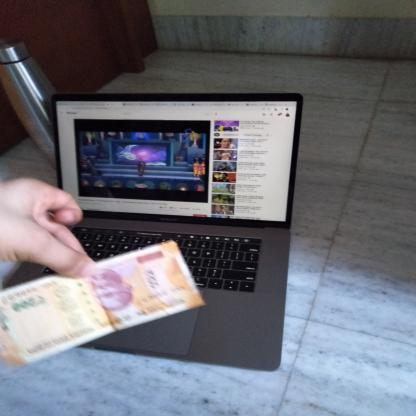New200Front: (0, 239, 188, 355)
